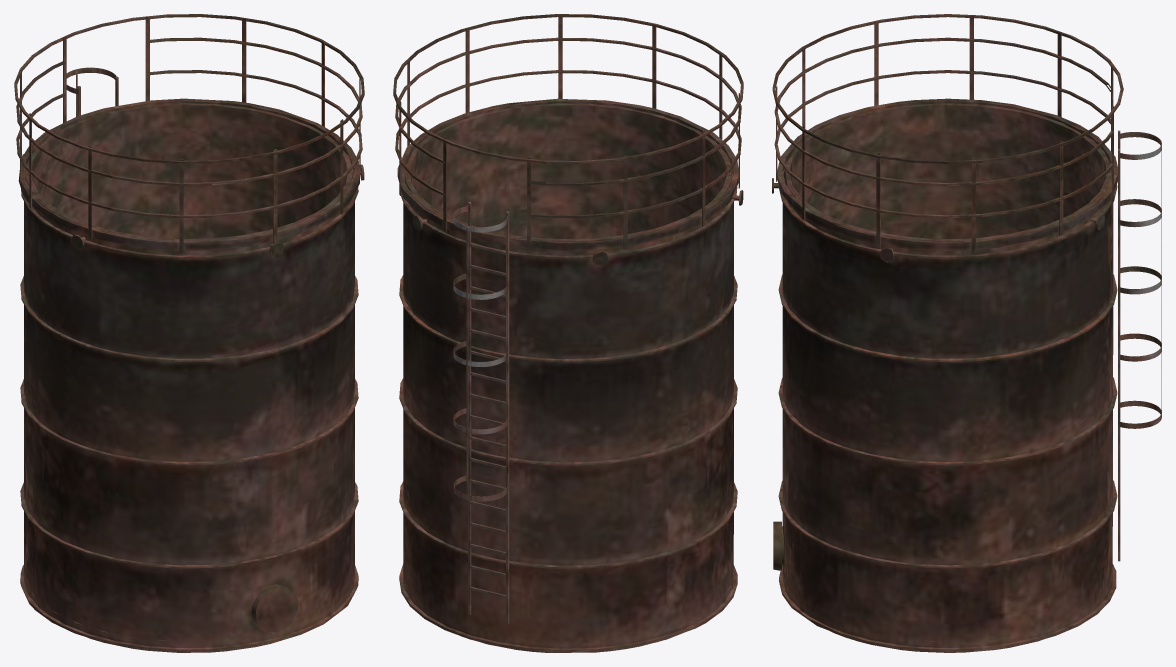
The model's file is prop_fueltank.glb.
The picture shows the model from 3 angles, left to right: view 1: azimuth 30°, elevation 25°; view 2: azimuth 150°, elevation 25°; view 3: azimuth 270°, elevation 25°; orthographic projection.
Parts seen in each view (by area): view 1: STORAGE TANK.009; view 2: STORAGE TANK.009; view 3: STORAGE TANK.009.
Boxes of the visible parts, box(x1,y1,x2,y2) form: STORAGE TANK.009: box(14, 14, 364, 652); STORAGE TANK.009: box(393, 14, 743, 652); STORAGE TANK.009: box(772, 14, 1161, 652).
Size of the model in its own units: 2.12 by 3.32 by 2.36.
1 material, 1 textured.
